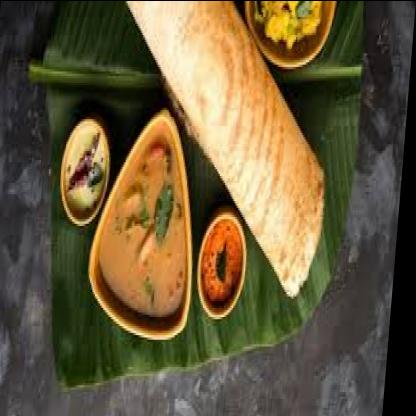dosa: (108, 0, 339, 296)
